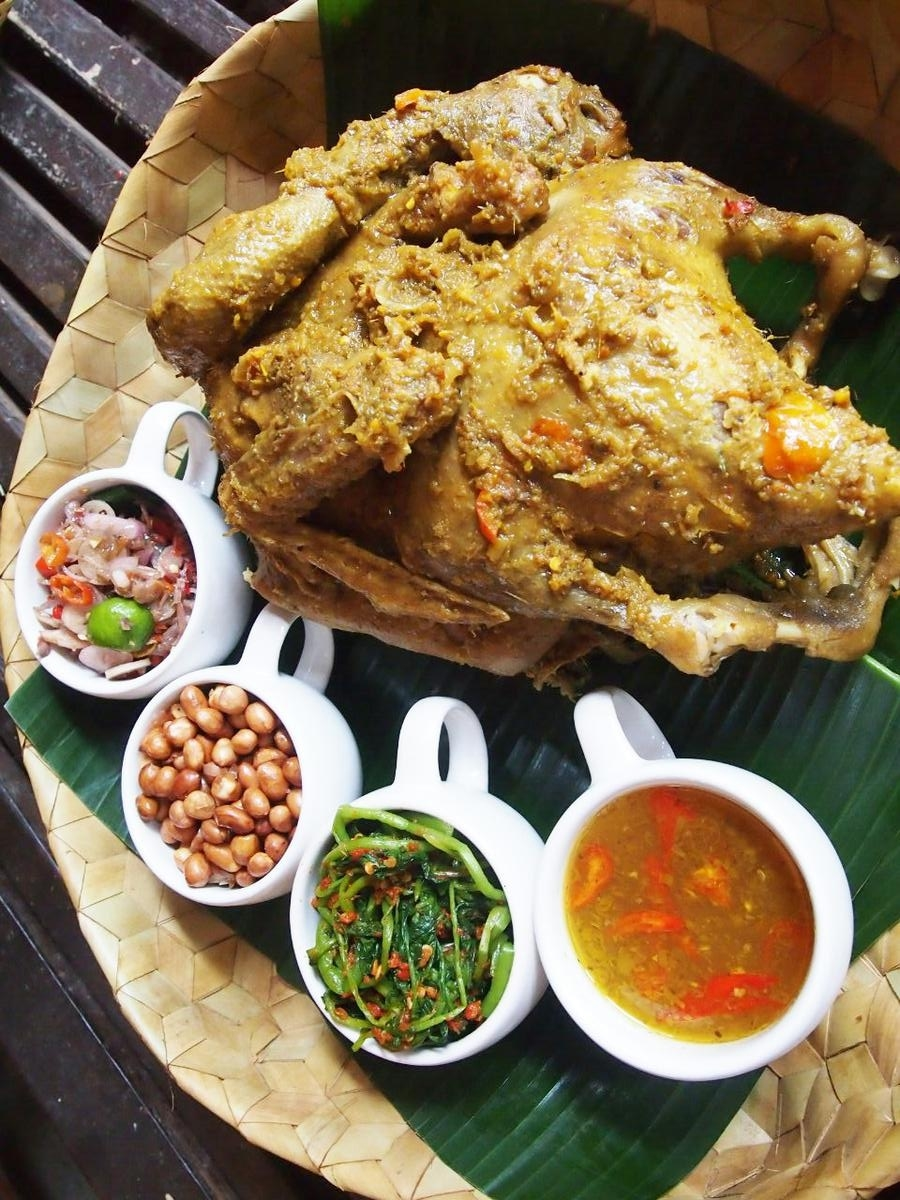ayam_betutu: (145, 66, 900, 685)
